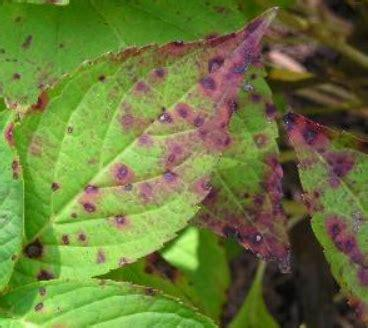black-spot: (42, 157, 142, 258)
